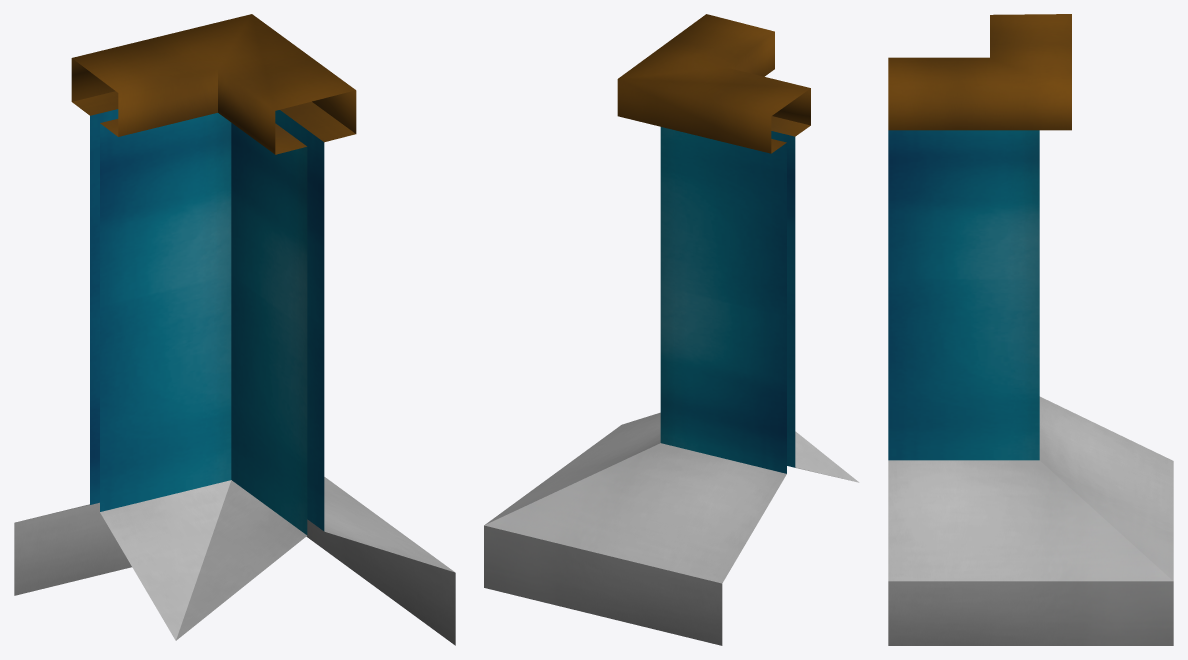
The model's file is FUT0510071.fbx.
3 views of the same model, side by side, from view 1: azimuth 30°, elevation 25°; view 2: azimuth 150°, elevation 25°; view 3: azimuth 270°, elevation 25° (orthographic). The views are drawn at different scales.
Visible parts, largest first — view 1: smFUT0510071; view 2: smFUT0510071; view 3: smFUT0510071.
Part boxes in pixels (x1,y1,x2,y2): smFUT0510071: (14,14,455,645); smFUT0510071: (484,14,859,645); smFUT0510071: (888,14,1173,645).
Size of the model in its own units: 152 by 302 by 152.
Materials: 1 (1 with a texture image).
